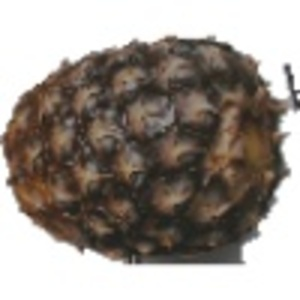abacaxi: (3, 28, 283, 256)
